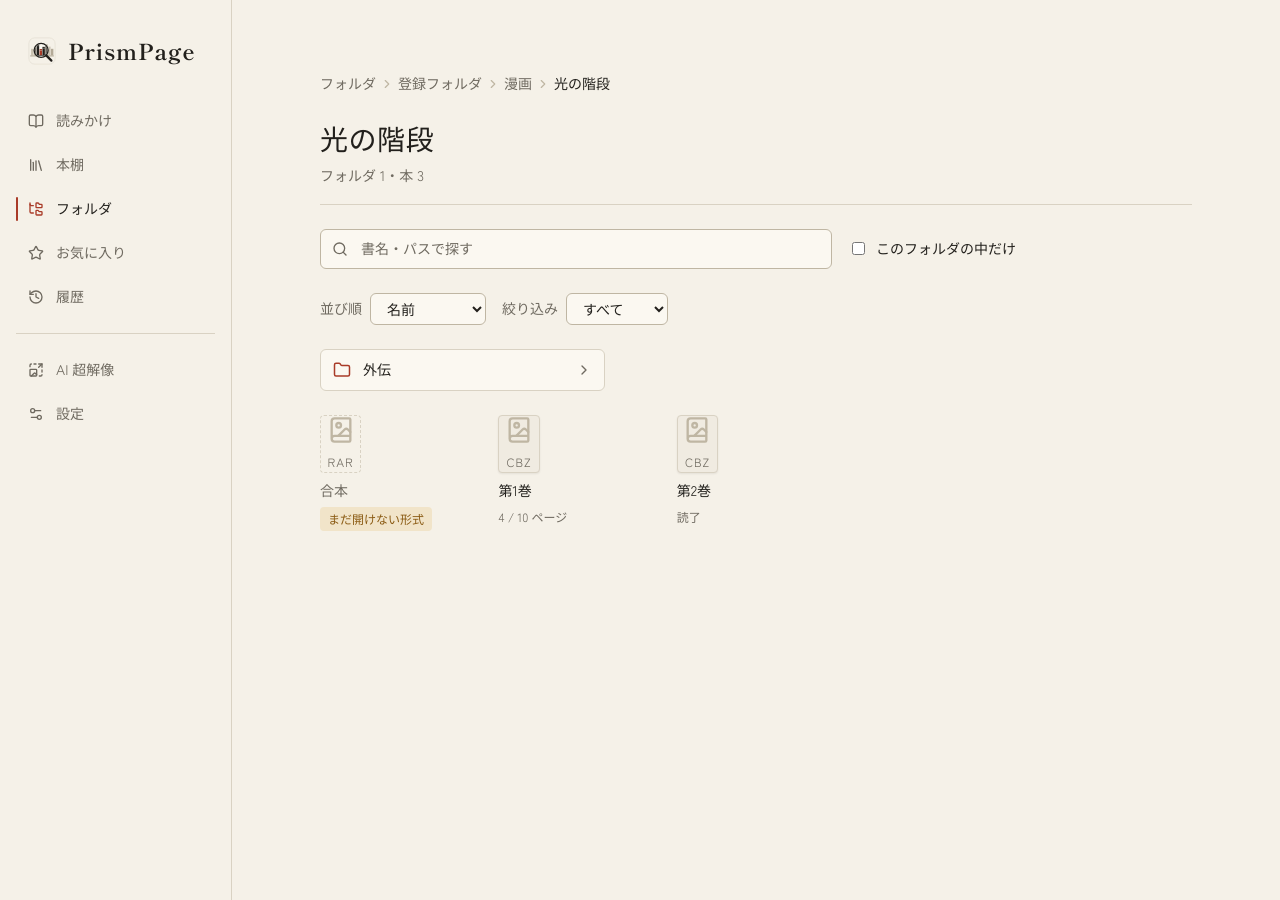
Test: フォルダ画面 › 未読・読みかけ・読了で本を絞り込み、フォルダは絞り込まない
The width and height of the screenshot is (1280, 900).
expect the button "CBZ 第1巻 4 / 10 ページ" is shown: met, box left=498, top=415, right=657, bottom=528
Select "未読" in the dropdown labelled "絞り込み" at (617, 309), box left=566, top=293, right=668, bottom=325
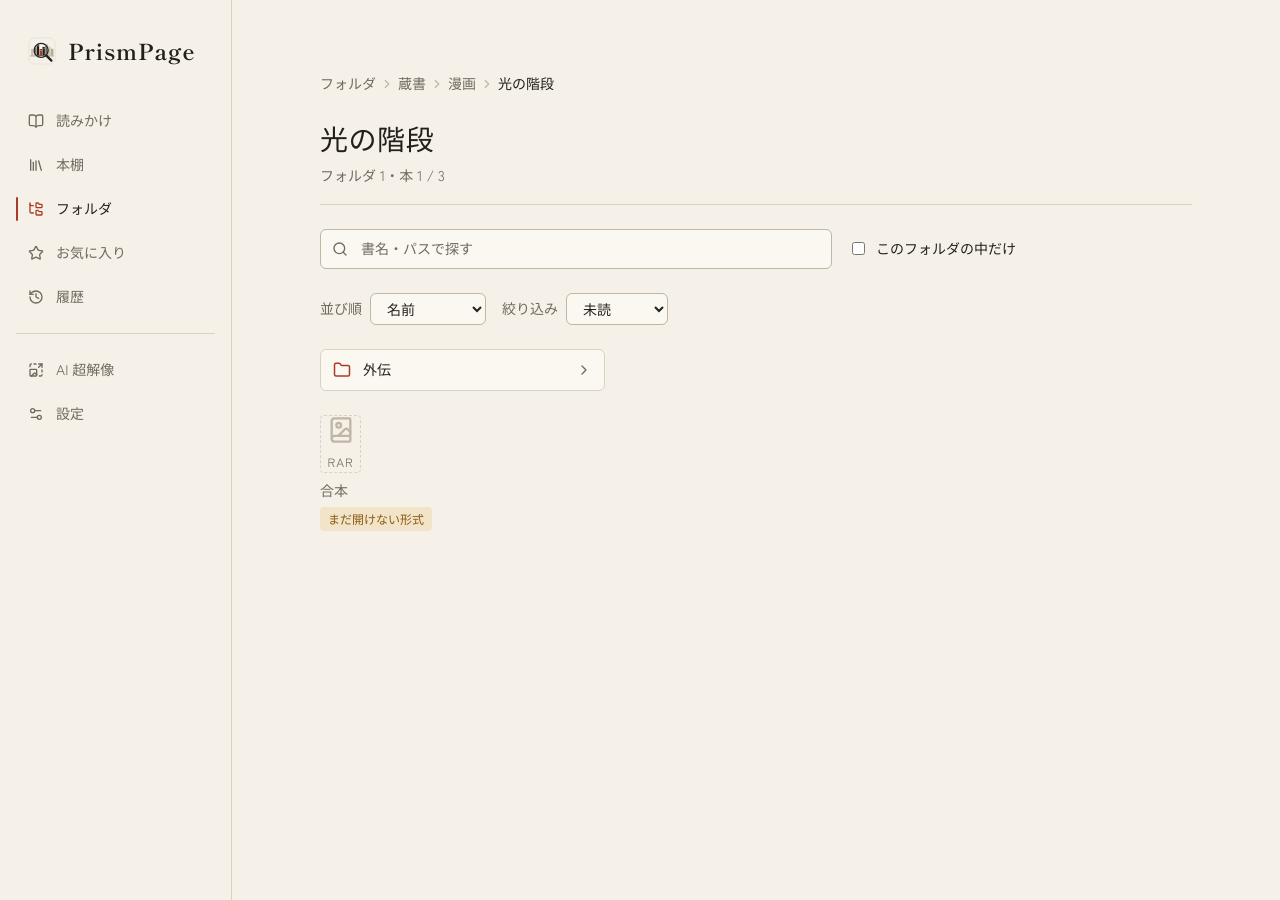
Select "読みかけ" in the dropdown labelled "絞り込み" at (617, 309), box left=566, top=293, right=668, bottom=325
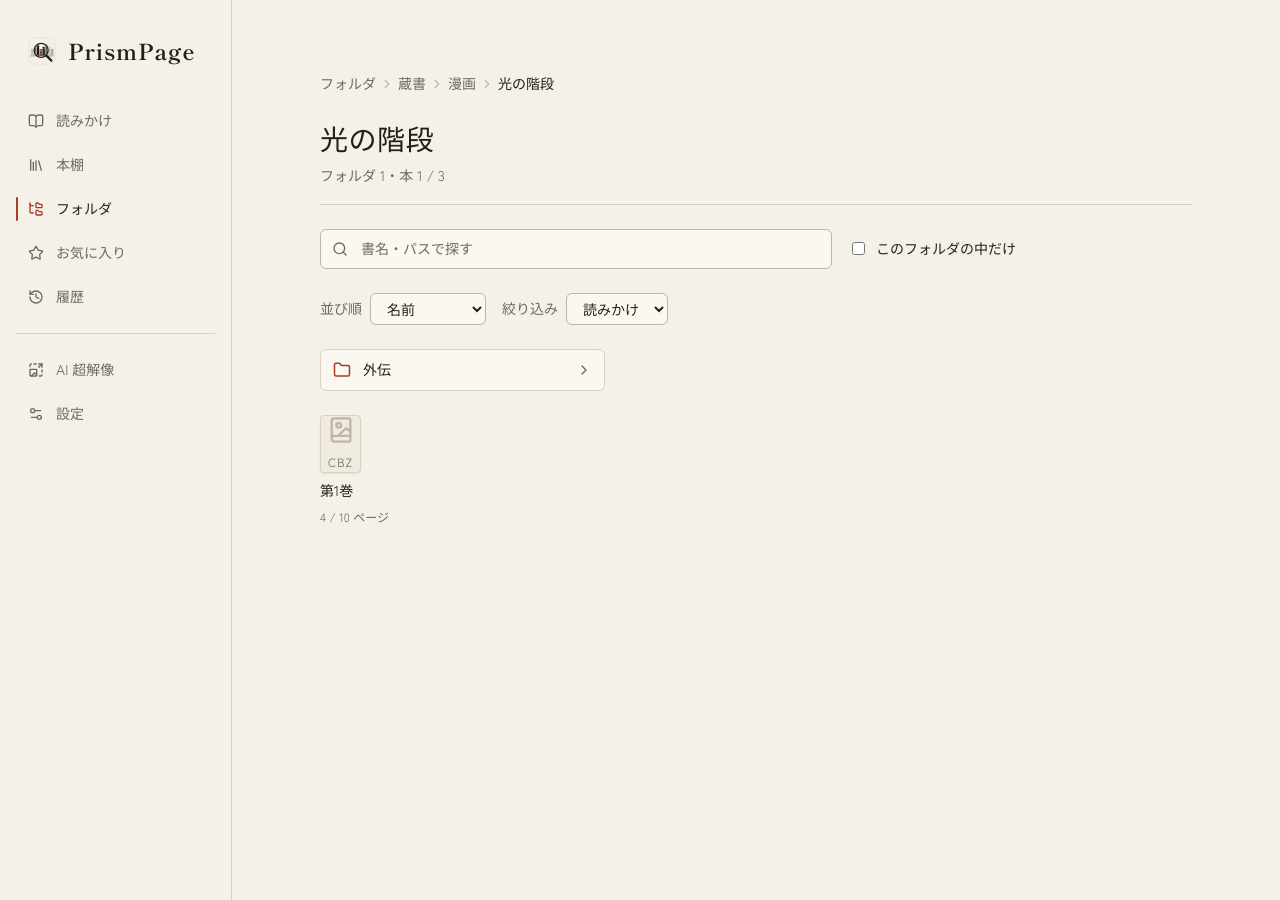
expect the button "CBZ 第1巻 4 / 10 ページ" is shown: met, box left=320, top=415, right=478, bottom=528
Select "読了" in the dropdown labelled "絞り込み" at (617, 309), box left=566, top=293, right=668, bottom=325
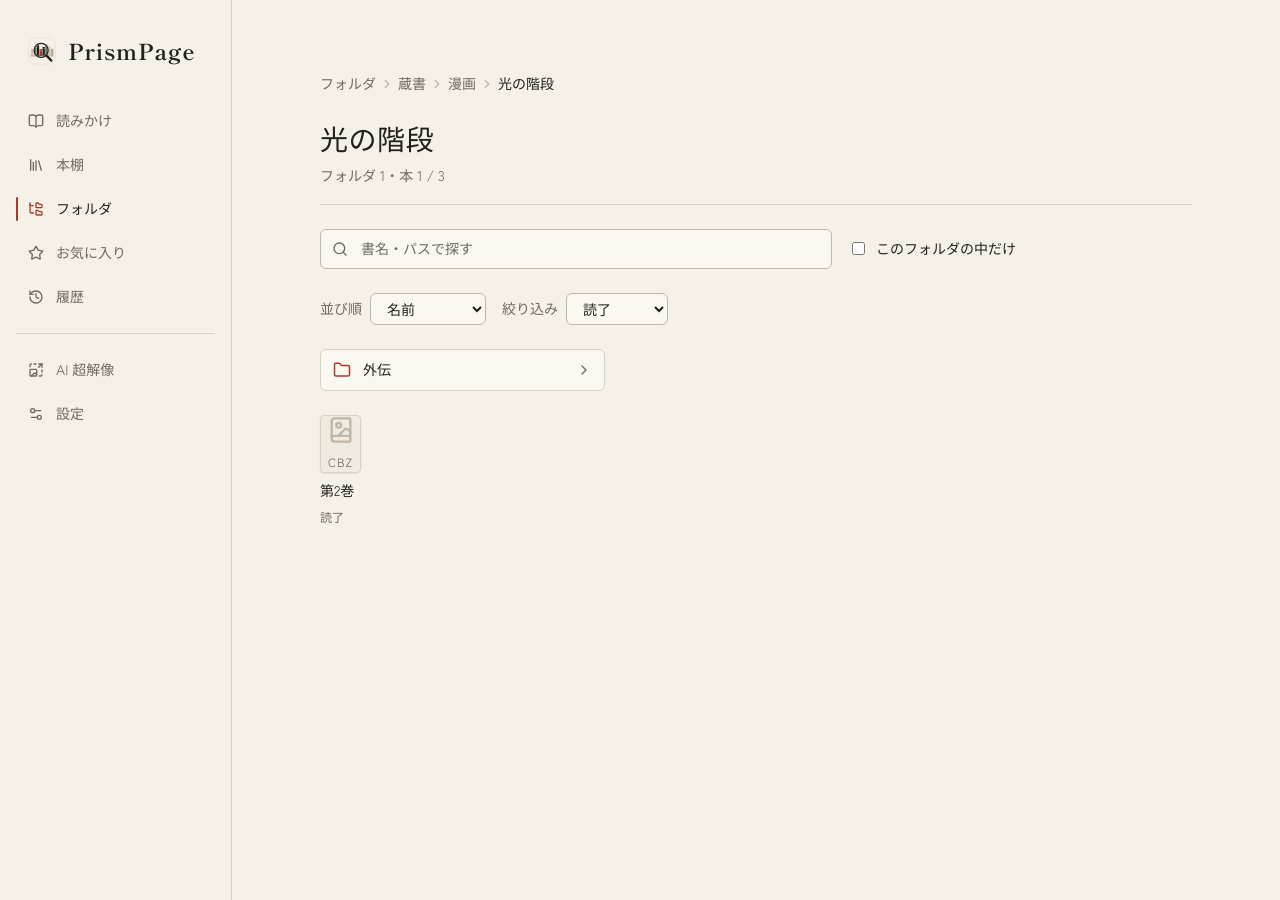
expect the link "外伝" is shown: met, box left=320, top=349, right=605, bottom=391
expect the button "CBZ 第2巻 読了" is shown: met, box left=320, top=415, right=478, bottom=528
